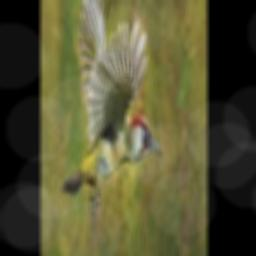Woodpecker: (59, 0, 161, 214)
